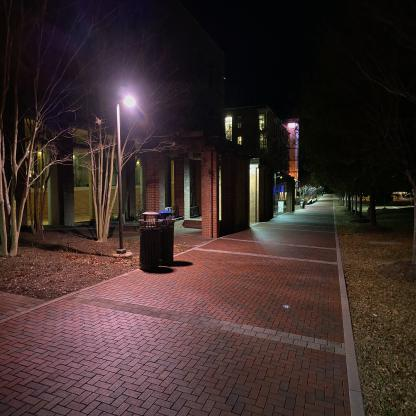eb2: (1, 2, 227, 220)
